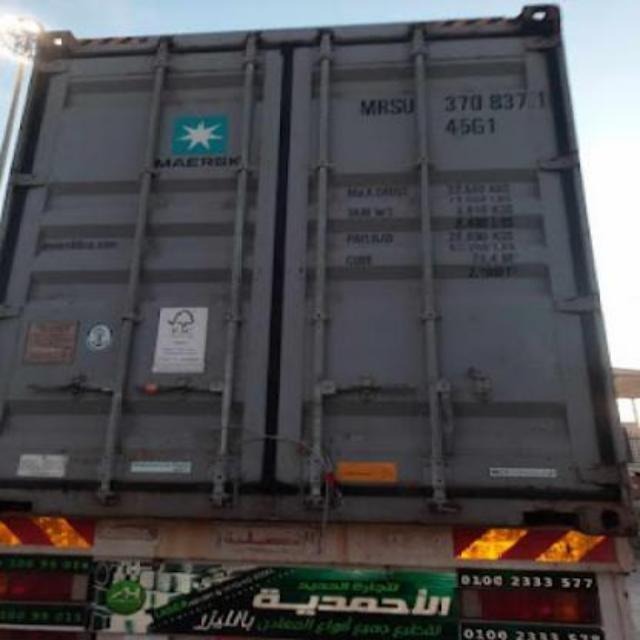0: (468, 89, 486, 113)
1: (532, 86, 550, 110)
3: (438, 88, 458, 115), (500, 89, 516, 115)
7: (512, 87, 532, 117), (454, 88, 468, 114)
8: (486, 89, 502, 115)
M: (356, 94, 376, 116)
R: (376, 93, 388, 117)
S: (388, 93, 402, 117)
U: (402, 94, 418, 116)
